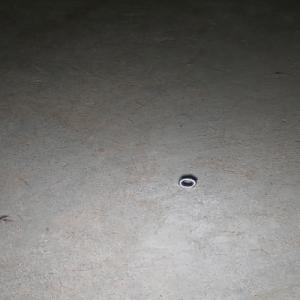Nut: (179, 177, 198, 188)
